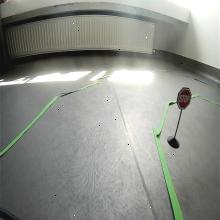stop: (177, 87, 192, 110)
